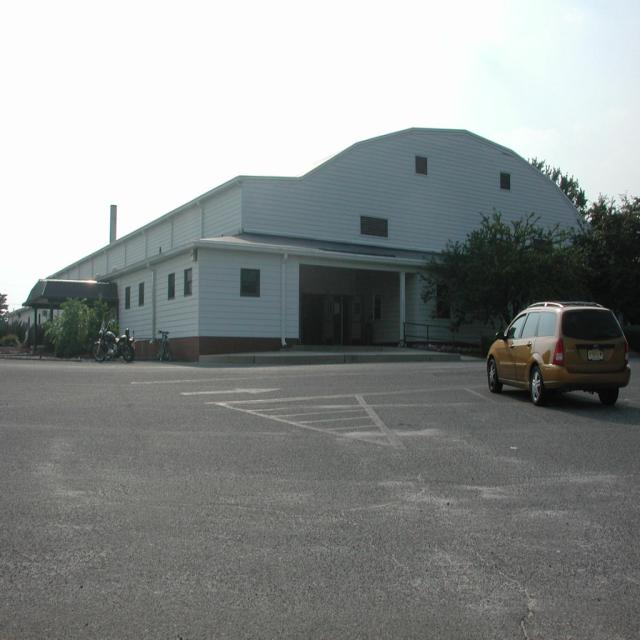car: (483, 296, 631, 407)
